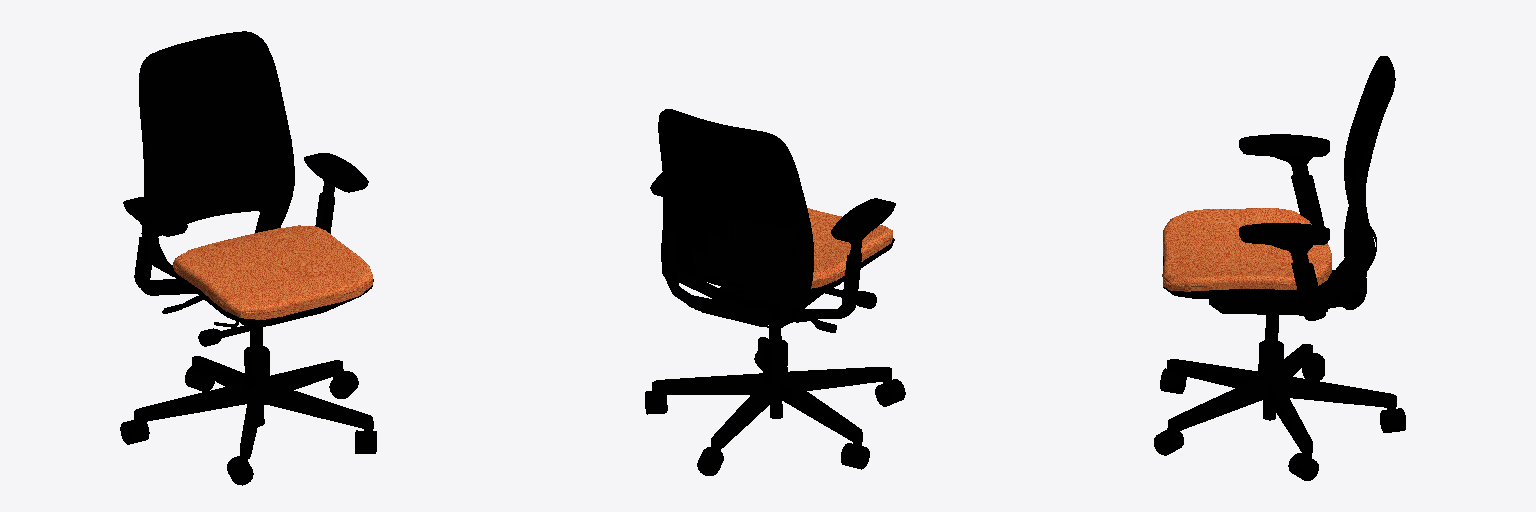
3 renders of one model, left to right at view 1: azimuth 30°, elevation 25°; view 2: azimuth 150°, elevation 25°; view 3: azimuth 270°, elevation 25°, orthographic.
Parts seen in each view (by area): view 1: Material3.025; view 2: Material3.025; view 3: Material3.025.
Part boxes in pixels (x1,y1,x2,y2): Material3.025: (120,31,376,485); Material3.025: (645,109,905,475); Material3.025: (1154,56,1405,480).
Size of the model in its own units: 28.32 by 41.9 by 27.45.
Materials: 2 (2 with a texture image).